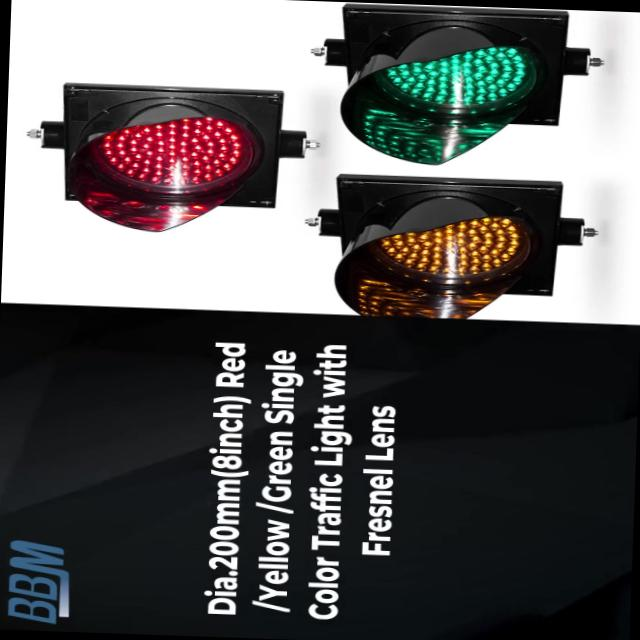green-lights: (378, 34, 534, 110)
red-lights: (90, 105, 258, 195)
yellow-lights: (366, 208, 524, 280)
